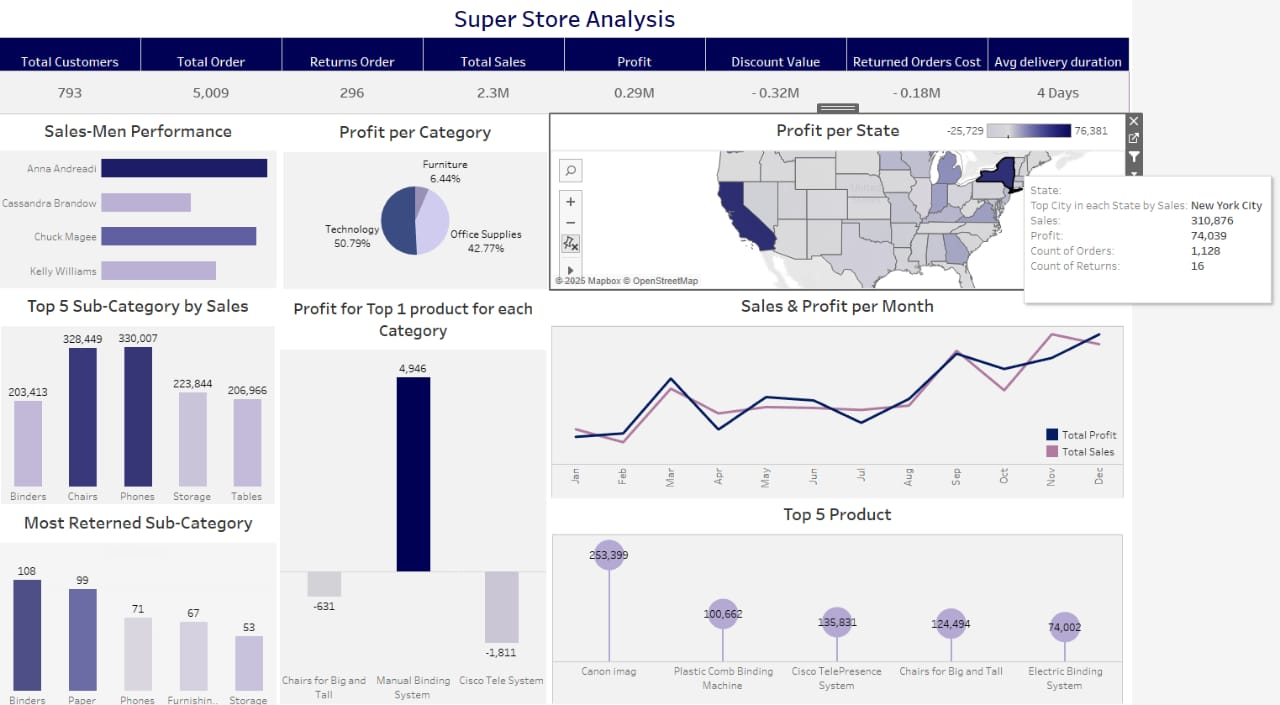

The dashboard page shown, as its layout file describes it:
{"tool":"tableau","page":{"name":"Super Store Analysis","canvas":[1000,1000],"units":"permille","ordinal":0},"visuals":[{"type":"title","box":[5.9,9.3,988.1,52.3]},{"type":"worksheet","title":"KPIs","mark":"Automatic","box":[1.5,61.8,996.3,108.5]},{"type":"worksheet","title":"Profit per State","mark":"Automatic","box":[487.4,169.2,506.7,242.7]},{"type":"worksheet","title":"Sales by Sales-Men","mark":"Bar","rows":["Person"],"cols":["Calculation_1333347007119671304"],"box":[2.2,170.4,243.7,240.4]},{"type":"worksheet","title":"Profit per Category","mark":"Pie","box":[251.8,171.5,232.6,240.4]},{"type":"legend","title":"Profit per State","param":"[federated.01jj03r1tv1ldn19yh2gz1p7oj7y].[sum:Profit:qk]","box":[834.1,177.4,148.2,29.2]},{"type":"worksheet","title":"Top Sales 5 Sub-Category","mark":"Automatic","rows":["Sales"],"cols":["Sub-Category"],"box":[3,413.1,241.5,297.6]},{"type":"worksheet","title":"Sales & Profit per Month","mark":"Line","rows":["Calculation_1333347007119671304","Calculation_1333347007119867913"],"cols":["Calculation_264867996363223041"],"box":[488.2,413.1,504.4,289.4]},{"type":"worksheet","title":"Profit for Top 1 product for each Category","mark":"Bar","rows":["Profit"],"cols":["Calculation_1154610397414662150"],"box":[248.9,417.7,234.8,570.6]},{"type":"worksheet","title":"Top 5 Product","mark":"Automatic","rows":["Sales","Sales"],"cols":["Product Name"],"box":[488.9,702.5,503,285.9]},{"type":"worksheet","title":"Most Reterned Sub-Category","mark":"Automatic","rows":["Returns_0AB84C8AF26648ACB48E50B596AB4C32"],"cols":["Sub-Category"],"box":[2.2,714.1,243.7,280.1]}]}

Visuals, with their boxes on the dashboard's canvas, which has no fixed pixel size, in thousandths of its width and height (x1, y1, x2, y2). These are canvas units, not pixel positions in the 1280x705 screenshot, which may show the page scaled, cropped or inside an application window:
title: locate(6, 9, 994, 62)
"KPIs" worksheet: locate(2, 62, 998, 170)
"Profit per State" worksheet: locate(487, 169, 994, 412)
"Sales by Sales-Men" worksheet (Bar marks): locate(2, 170, 246, 411)
"Profit per Category" worksheet (Pie marks): locate(252, 172, 484, 412)
"Profit per State" legend: locate(834, 177, 982, 207)
"Top Sales 5 Sub-Category" worksheet: locate(3, 413, 244, 711)
"Sales & Profit per Month" worksheet (Line marks): locate(488, 413, 993, 702)
"Profit for Top 1 product for each Category" worksheet (Bar marks): locate(249, 418, 484, 988)
"Top 5 Product" worksheet: locate(489, 702, 992, 988)
"Most Reterned Sub-Category" worksheet: locate(2, 714, 246, 994)
